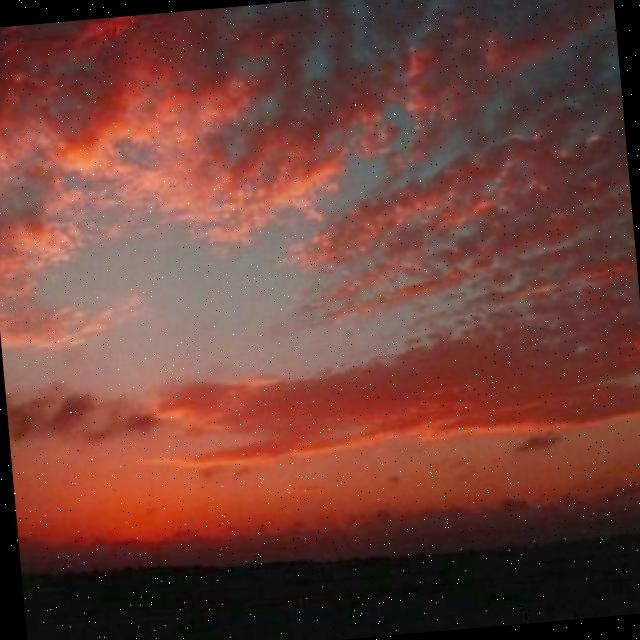St: (1, 1, 640, 490)
